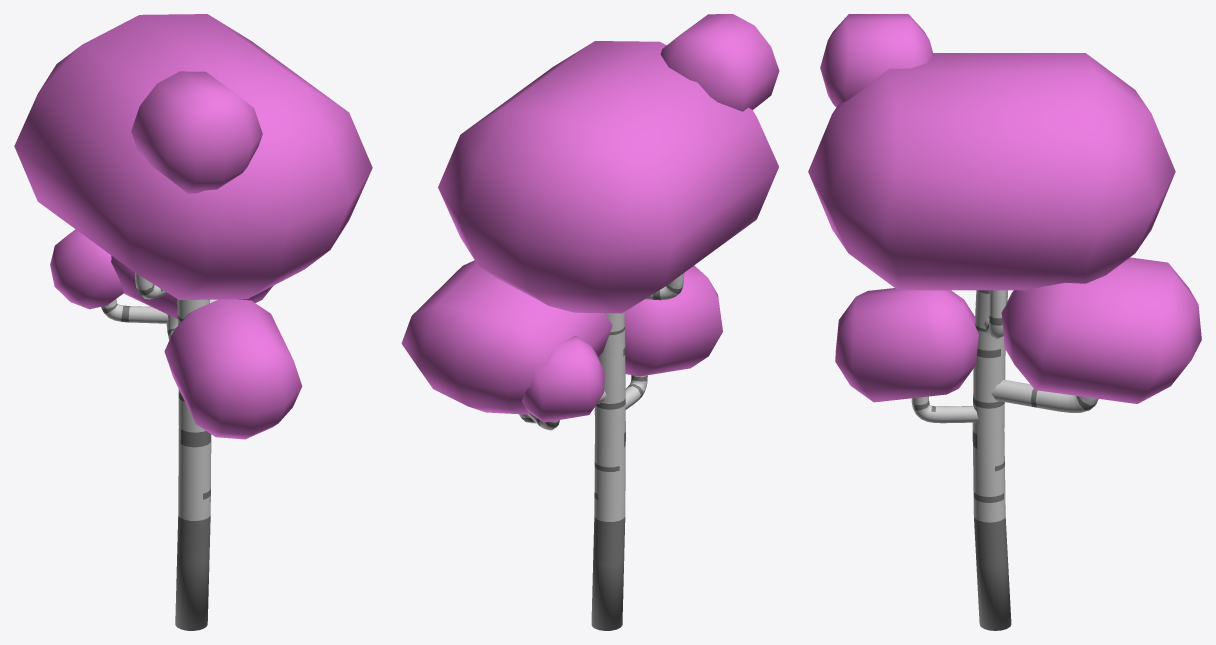
Rendered from Tree.fbx.
The picture shows the model from 3 angles, left to right: view 1: azimuth 30°, elevation 25°; view 2: azimuth 150°, elevation 25°; view 3: azimuth 270°, elevation 25°; orthographic projection. The views are drawn at different scales.
Parts seen in each view (by area): view 1: Tree; view 2: Tree; view 3: Tree.
Part boxes in pixels (x1,y1,x2,y2): Tree: [14, 14, 372, 630]; Tree: [401, 14, 779, 630]; Tree: [808, 14, 1201, 630].
Size of the model in its own units: 96.46 by 217 by 134.
